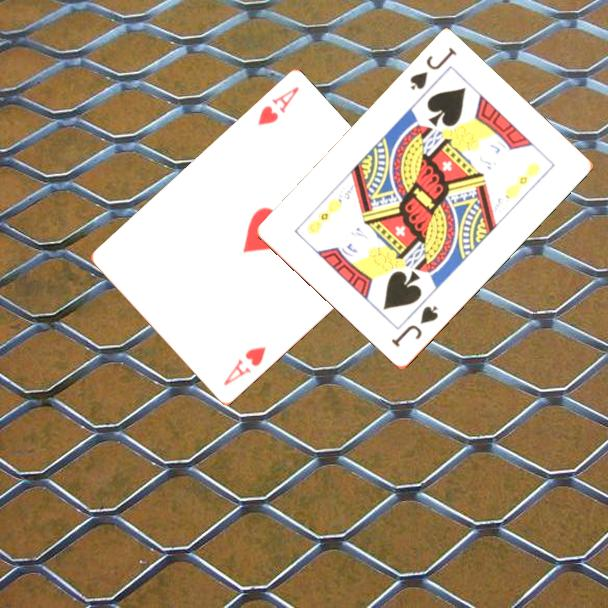h01: (220, 343, 269, 389), (254, 83, 302, 129)
s11: (406, 44, 460, 94), (388, 302, 441, 351)
